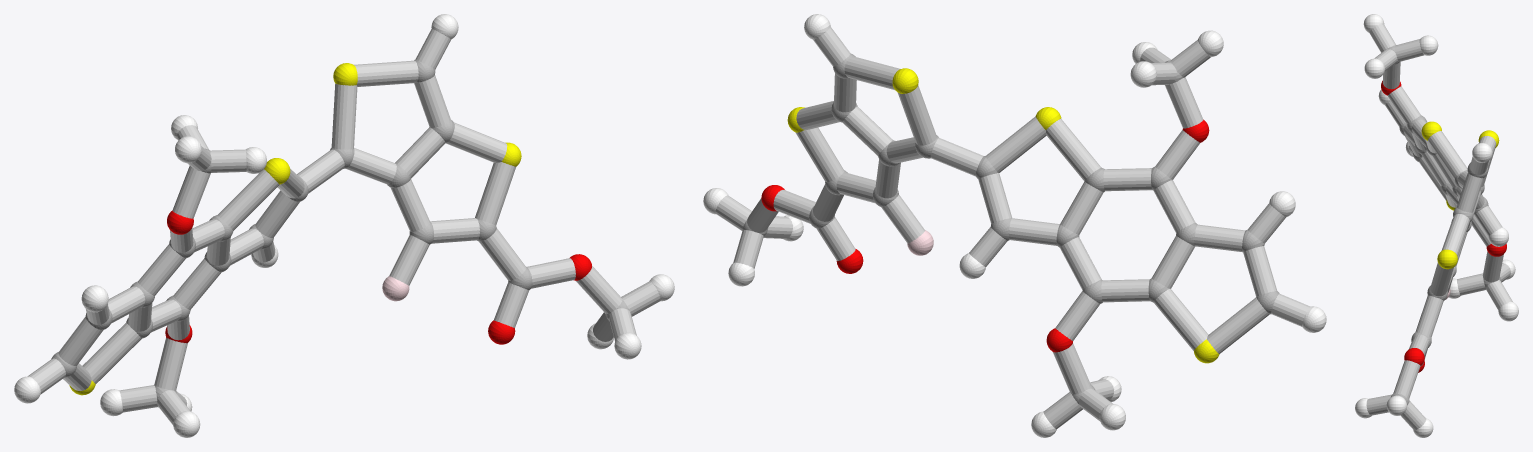
Rendered from color.glb.
3 views of the same model, side by side, from view 1: azimuth 30°, elevation 25°; view 2: azimuth 150°, elevation 25°; view 3: azimuth 270°, elevation 25° (orthographic). The views are drawn at different scales.
Parts seen in each view (by area): view 1: grp15205, grp8689, grp1, grp13395, grp7241; view 2: grp15205, grp8689, grp1, grp7241, grp13395; view 3: grp15205, grp8689, grp1, grp7241, grp13395.
Boxes of the visible parts, x1,y1,x2,y2 form: grp15205: (27, 29, 660, 425); grp8689: (14, 14, 674, 437); grp1: (51, 59, 629, 407); grp13395: (165, 210, 591, 344); grp7241: (69, 63, 521, 395); grp15205: (715, 27, 1310, 429); grp8689: (703, 14, 1326, 437); grp1: (742, 53, 1279, 403); grp7241: (787, 68, 1219, 363); grp13395: (761, 119, 1209, 352); grp15205: (1366, 24, 1512, 429); grp8689: (1355, 14, 1518, 437); grp1: (1387, 45, 1500, 405); grp7241: (1421, 121, 1499, 269); grp13395: (1381, 80, 1506, 372).
Size of the model in its own units: 16.41 by 8.93 by 4.8.
